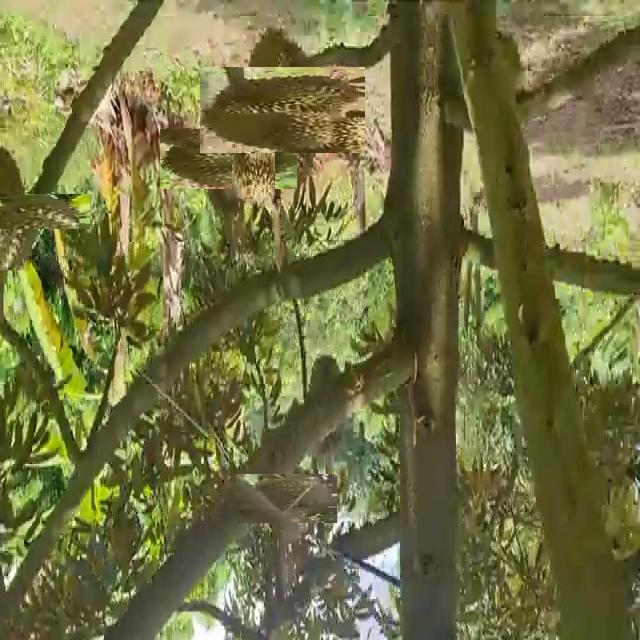durian: (219, 47, 345, 173), (179, 110, 277, 208), (301, 346, 351, 466), (249, 461, 324, 536), (0, 168, 63, 256), (232, 108, 275, 220)
